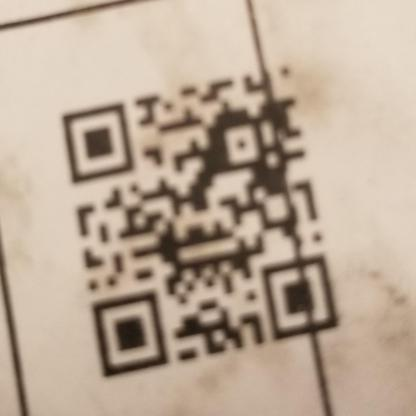qr: (55, 70, 343, 377)
